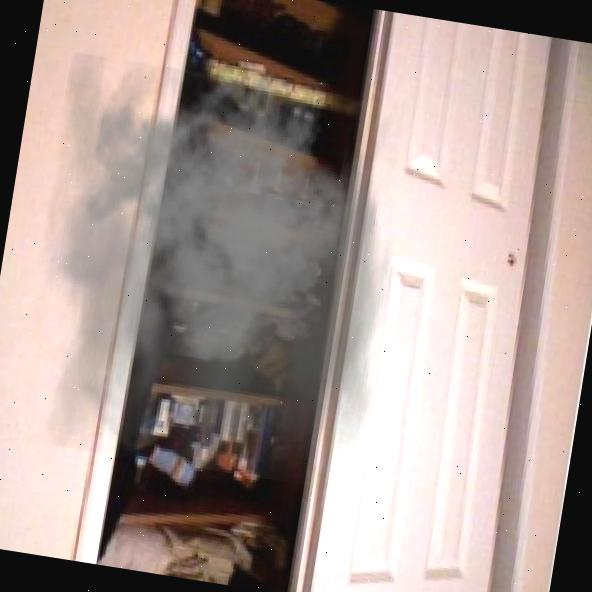smoke: (10, 37, 421, 493)
